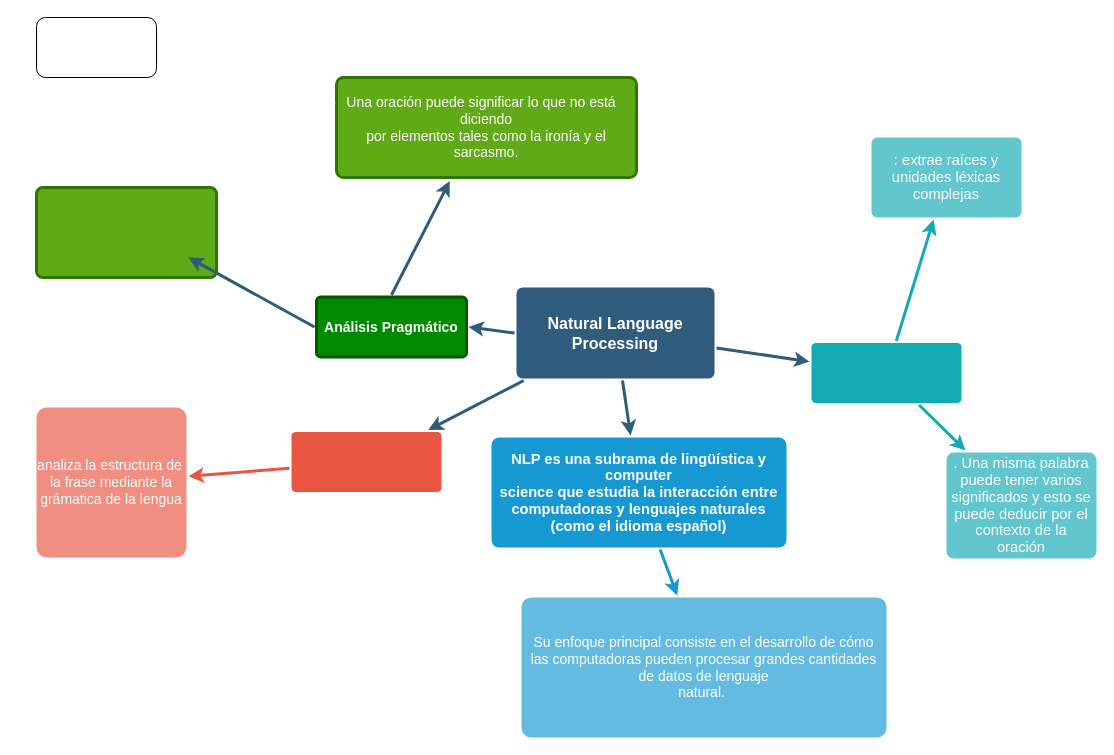
The diagram is 1114 pixels wide and 755 high, and some of its shapes have lost their labels. Here are the shapes that lost their labels. From the top down, the centre of each, then its label:
At pixel 96 47: "Jua Juan Carlos Giron 19000607".
At pixel 126 232: "análisis del texto más allá del límite de la frase.".
At pixel 886 372: "Análisis Morfológico".
At pixel 366 462: "Análisis sintáctico".
